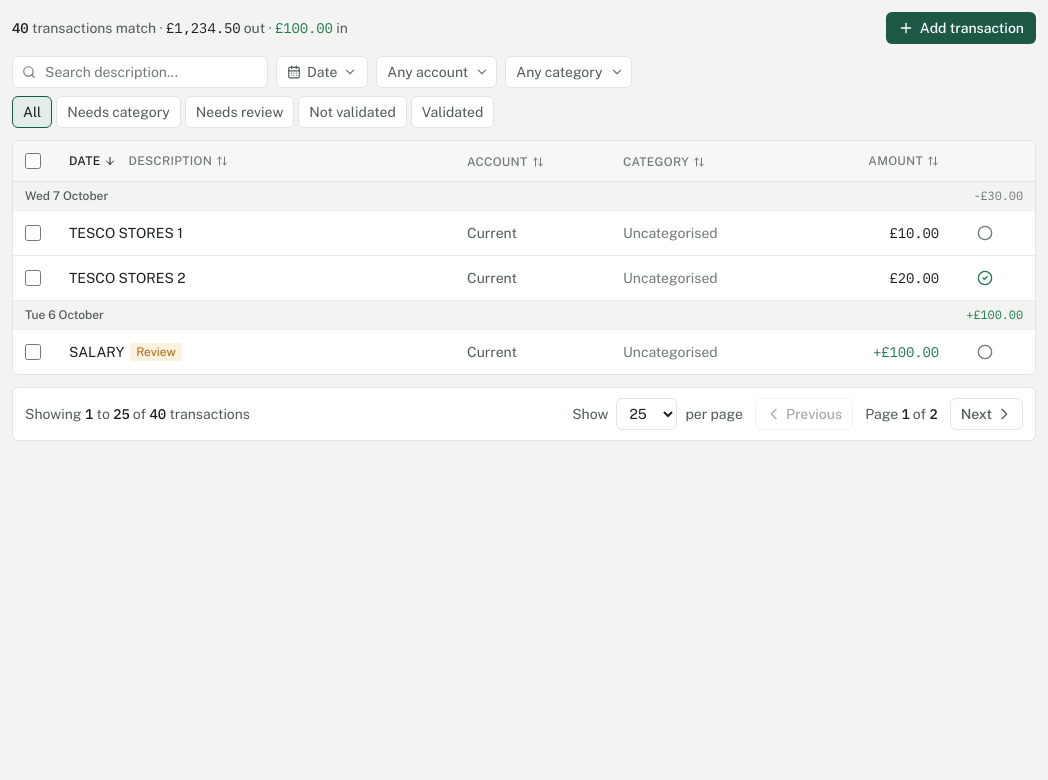
Test: Transactions page › selects all matching rows via /api/transactions/ids
The width and height of the screenshot is (1048, 780).
Expected: the text "SALARY" is shown, x1=69 y1=342 x2=124 y2=362
Click the checkbox named "Select all on this page": (33, 161) x1=25 y1=153 x2=41 y2=169
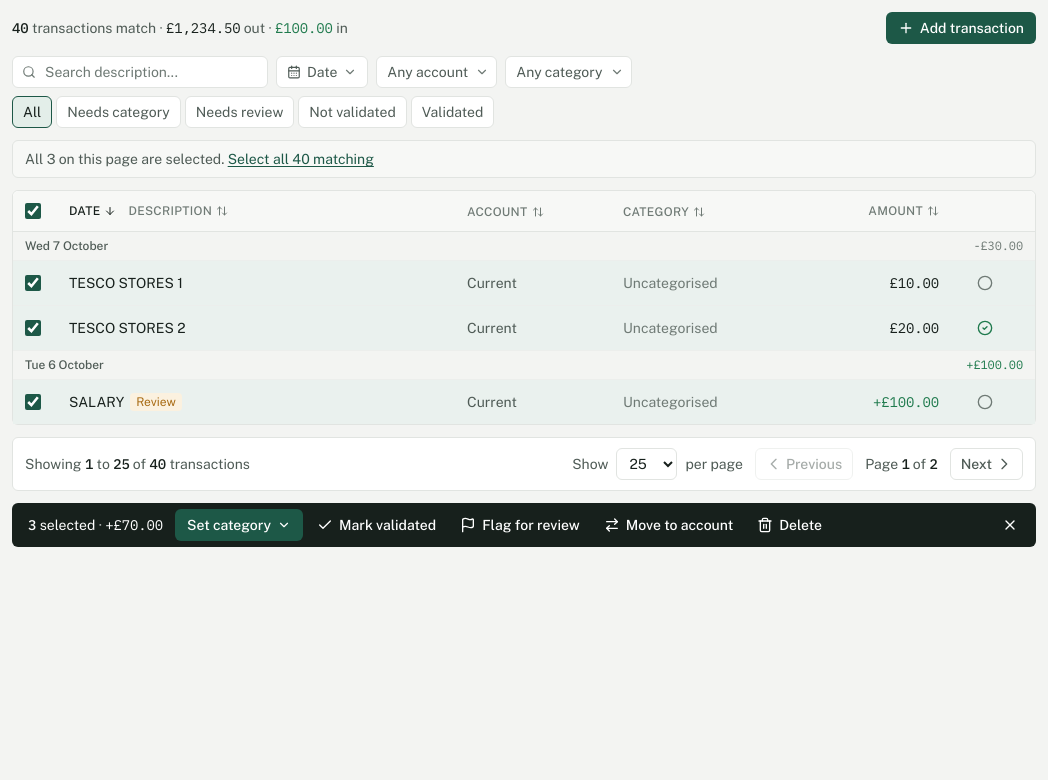
Click the button "Select all 40 matching": (301, 159) x1=228 y1=149 x2=374 y2=169
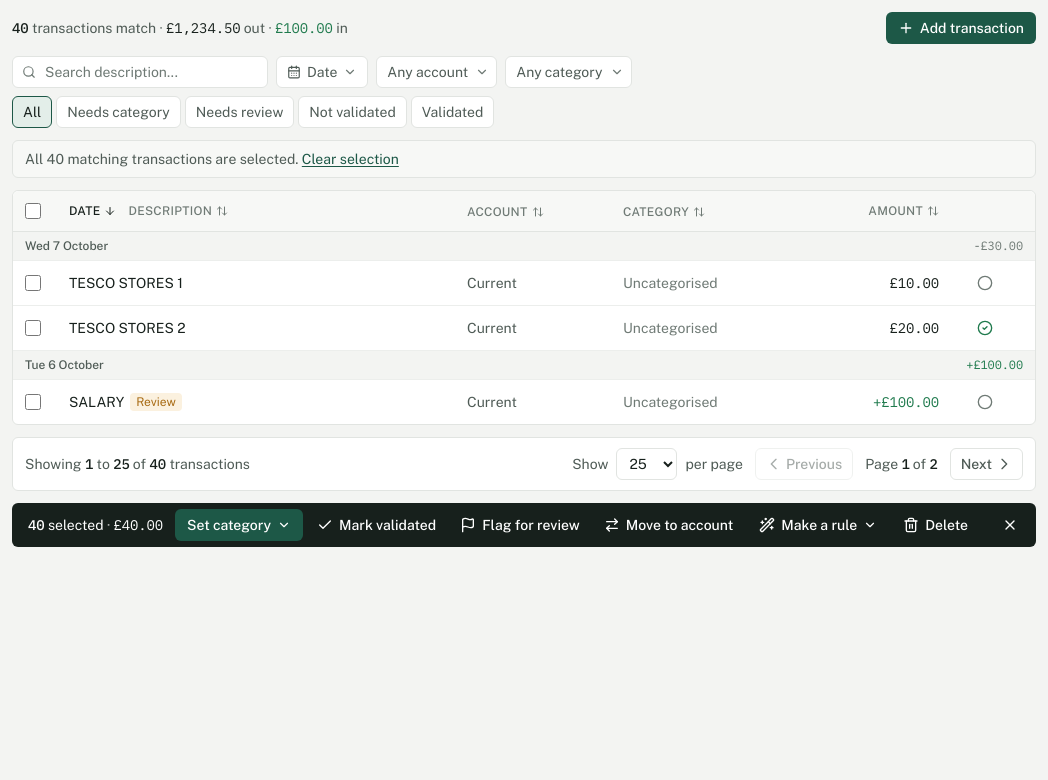
Expected: the element named "Bulk actions" shows "40 selected", x1=12 y1=503 x2=1036 y2=547
Expected: the element named "Bulk actions" shows "£40.00", x1=114 y1=516 x2=163 y2=534
Expected: the text "All 40 matching transactions are selected. Clear selection" is shown, x1=12 y1=140 x2=1036 y2=178
